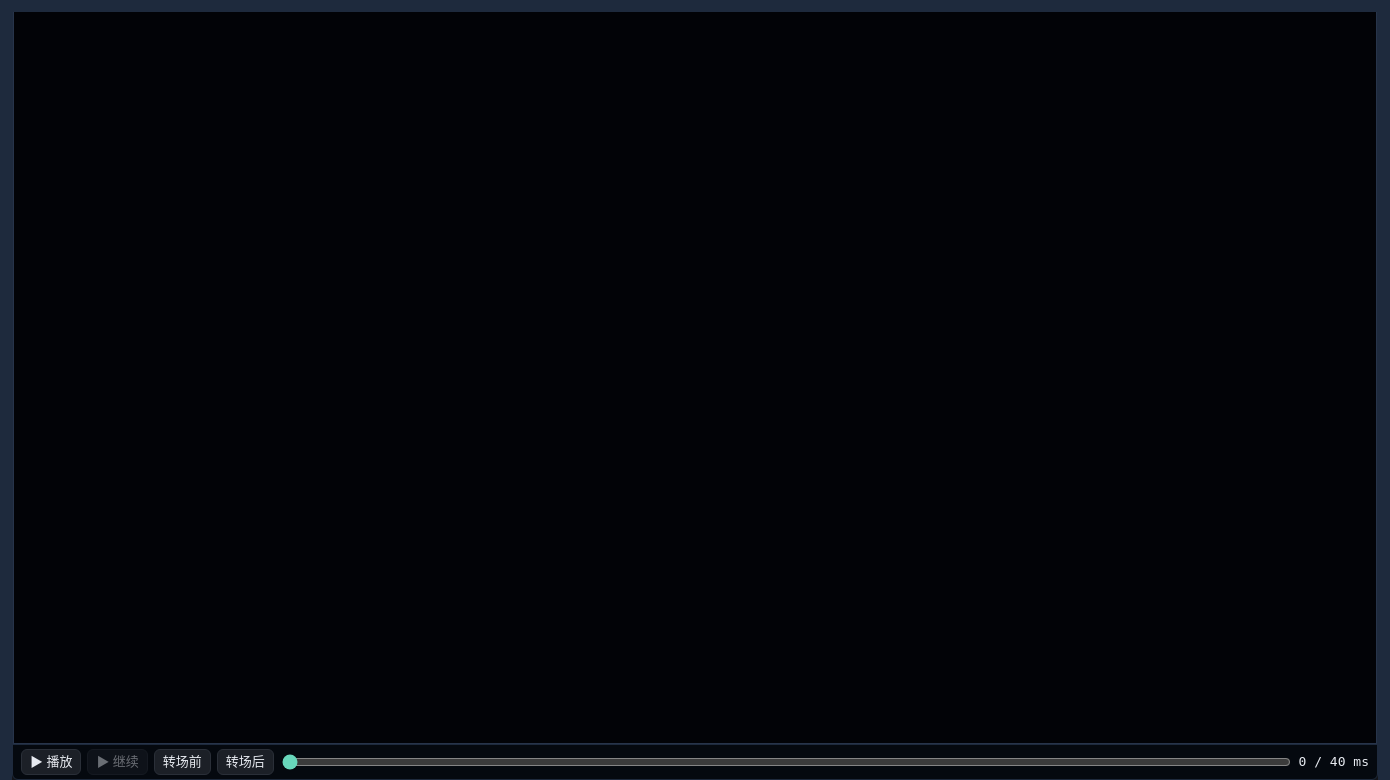
Test: CuePreview › reuses one initialized surface under Strict Mode and plays the cue
This screenshot has width=1390, height=780.
(page scrolled)
Click the button "▶ 播放" at (51,762), box [21, 749, 81, 775]
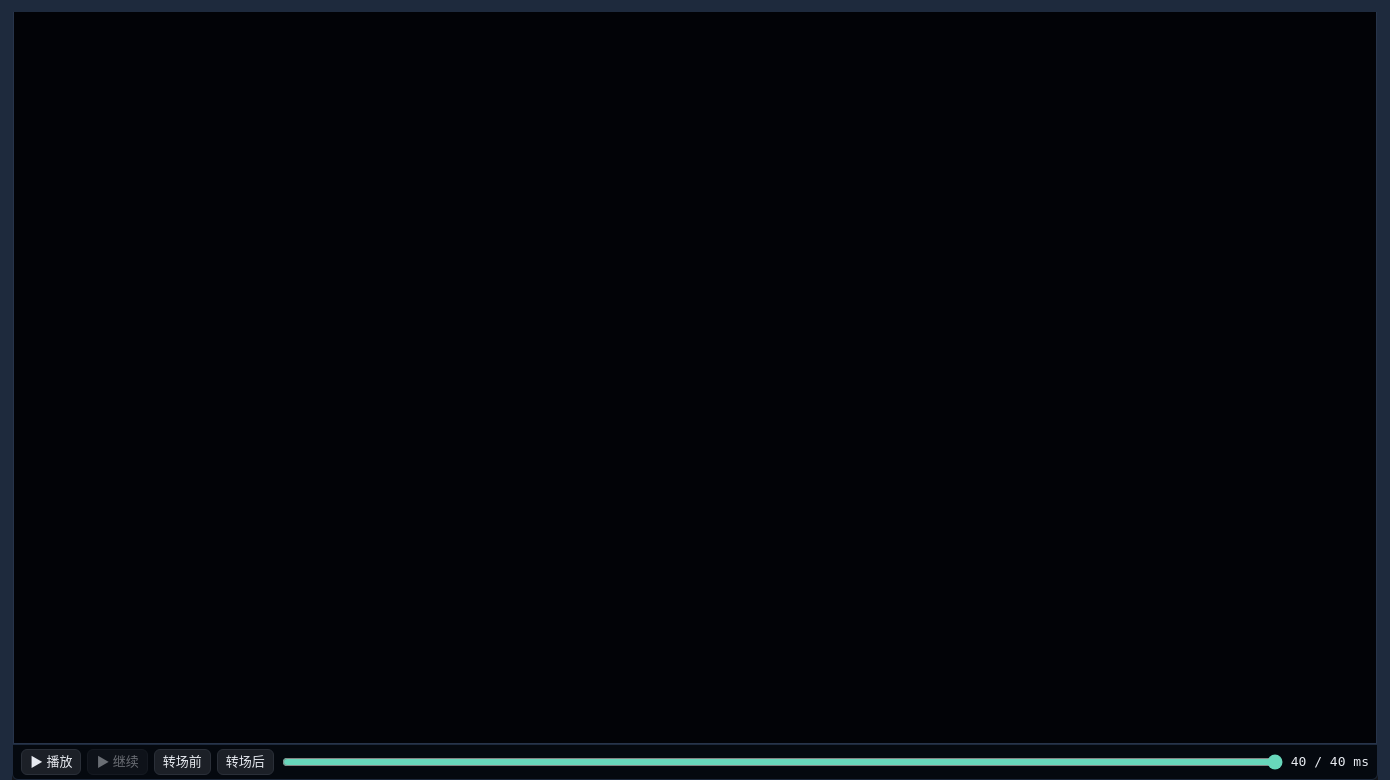
expect the text "40 / 40 ms" is shown: met, box [1291, 752, 1369, 772]
